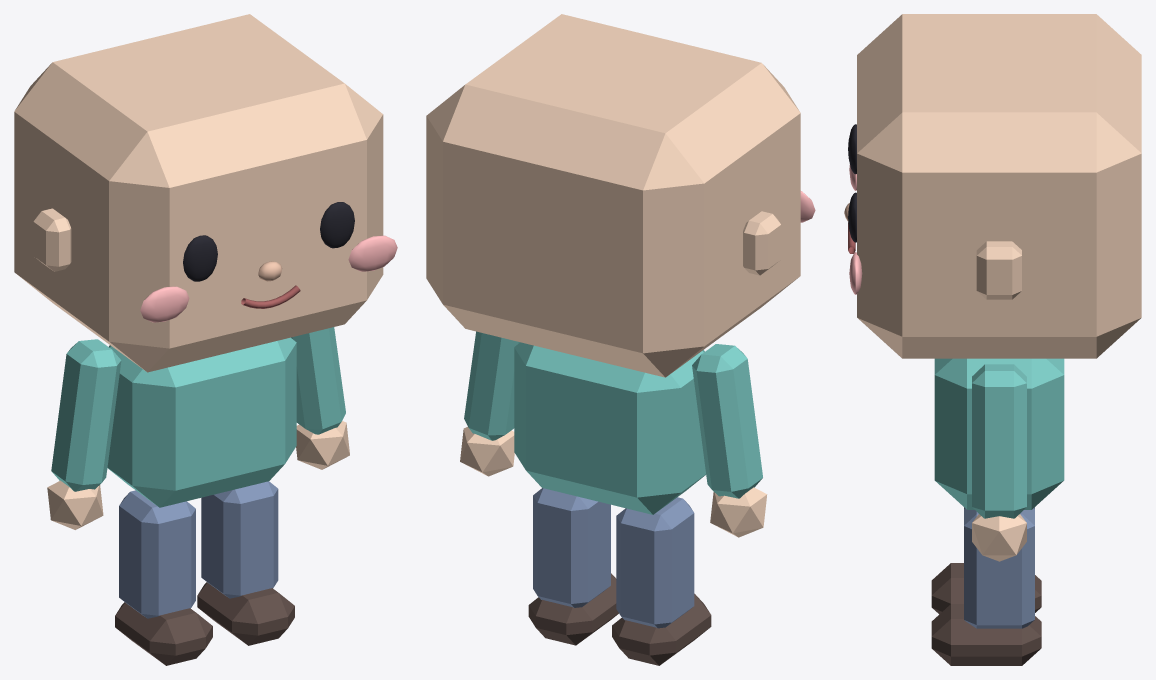
File: warga_base.glb
The picture shows the model from 3 angles, left to right: view 1: azimuth 30°, elevation 25°; view 2: azimuth 150°, elevation 25°; view 3: azimuth 270°, elevation 25°; orthographic projection. The views are drawn at different scales.
Parts seen in each view (by area): view 1: Head, Torso, Leg_R, Leg_L, Arm_R, Arm_L, Shoe_L, Shoe_R, Ear_R, Hand_R, Hand_L, Blush_L (+3 smaller); view 2: Head, Torso, Leg_R, Leg_L, Arm_R, Arm_L, Shoe_R, Shoe_L, Ear_R, Hand_R, Hand_L; view 3: Head, Torso, Arm_L, Leg_L, Shoe_L, Ear_L, Hand_L, Shoe_R.
Boxes of the visible parts, left/top/right/bottom form: Head: left=14, top=14, right=383, bottom=372; Torso: left=107, top=337, right=296, bottom=507; Leg_R: left=119, top=490, right=195, bottom=618; Leg_L: left=201, top=481, right=278, bottom=598; Arm_R: left=51, top=339, right=121, bottom=491; Arm_L: left=291, top=327, right=345, bottom=434; Shoe_L: left=197, top=582, right=294, bottom=645; Shoe_R: left=115, top=602, right=212, bottom=665; Ear_R: left=33, top=208, right=71, bottom=271; Hand_R: left=47, top=480, right=103, bottom=529; Hand_L: left=296, top=421, right=349, bottom=469; Blush_L: left=348, top=235, right=397, bottom=271; Head: left=426, top=14, right=800, bottom=377; Torso: left=514, top=342, right=705, bottom=514; Leg_R: left=616, top=497, right=694, bottom=628; Leg_L: left=533, top=488, right=610, bottom=607; Arm_R: left=692, top=344, right=762, bottom=498; Arm_L: left=464, top=331, right=519, bottom=440; Shoe_R: left=612, top=593, right=711, bottom=665; Shoe_L: left=528, top=573, right=618, bottom=645; Ear_R: left=743, top=211, right=781, bottom=275; Hand_R: left=710, top=487, right=767, bottom=537; Hand_L: left=460, top=427, right=514, bottom=476; Head: left=857, top=14, right=1141, bottom=358; Torso: left=934, top=358, right=1064, bottom=509; Arm_L: left=972, top=364, right=1026, bottom=518; Leg_L: left=964, top=508, right=1034, bottom=628; Shoe_L: left=931, top=604, right=1041, bottom=665; Ear_L: left=976, top=241, right=1021, bottom=299; Hand_L: left=972, top=514, right=1026, bottom=561; Shoe_R: left=931, top=563, right=1041, bottom=614.
Size of the model in its own units: 0.58 by 0.98 by 0.46.
